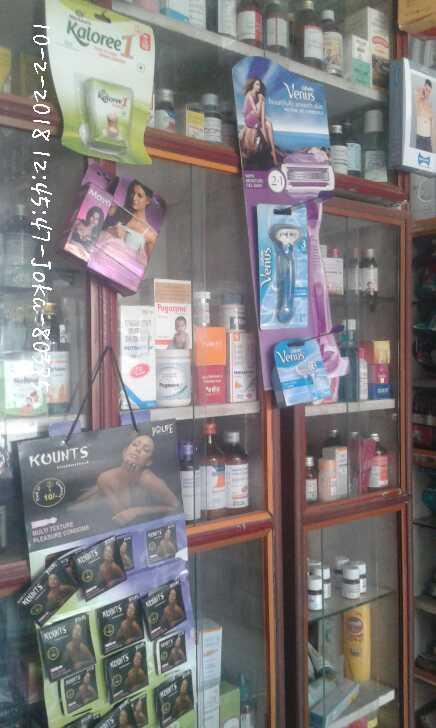venus: (251, 202, 311, 329), (269, 337, 333, 408)
